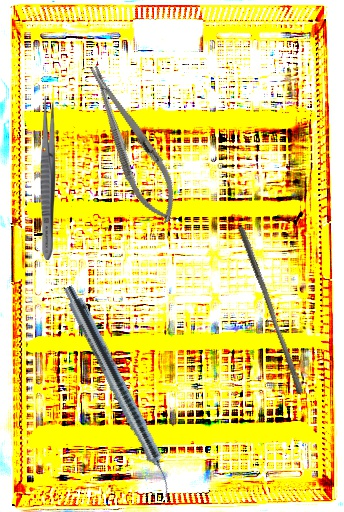Dressing Forceps: (39, 96, 56, 260)
Handpiece: (56, 282, 182, 500)
Needle Holder: (74, 56, 190, 231)
Pusher: (230, 225, 311, 395)
